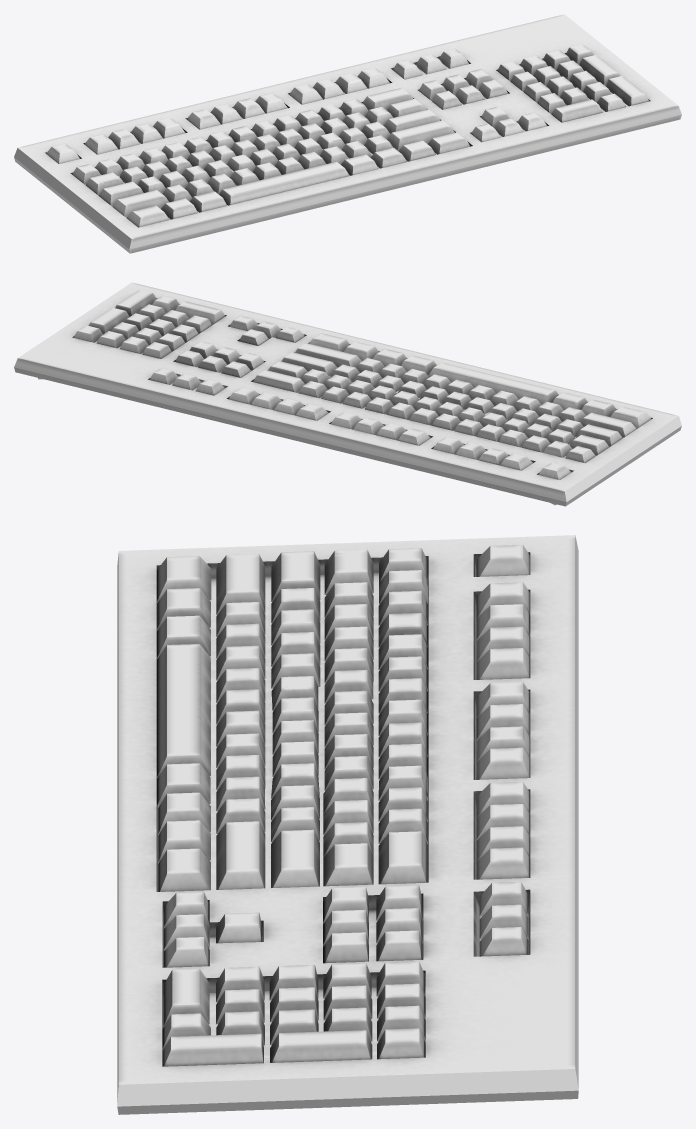
File: keyboard.obj
3 views of the same model, one above another, from view 1: azimuth 30°, elevation 25°; view 2: azimuth 150°, elevation 25°; view 3: azimuth 270°, elevation 25° (orthographic). The views are drawn at different scales.
Parts seen in each view (by area): view 1: Keyboard_Cube.001; view 2: Keyboard_Cube.001; view 3: Keyboard_Cube.001.
Boxes of the visible parts, <box> form: Keyboard_Cube.001: <box>14,14,681,253</box>; Keyboard_Cube.001: <box>14,282,681,506</box>; Keyboard_Cube.001: <box>117,535,578,1114</box>.
Size of the model in its own units: 0.4555 by 0.0217 by 0.1647.
1 material, 1 textured.
